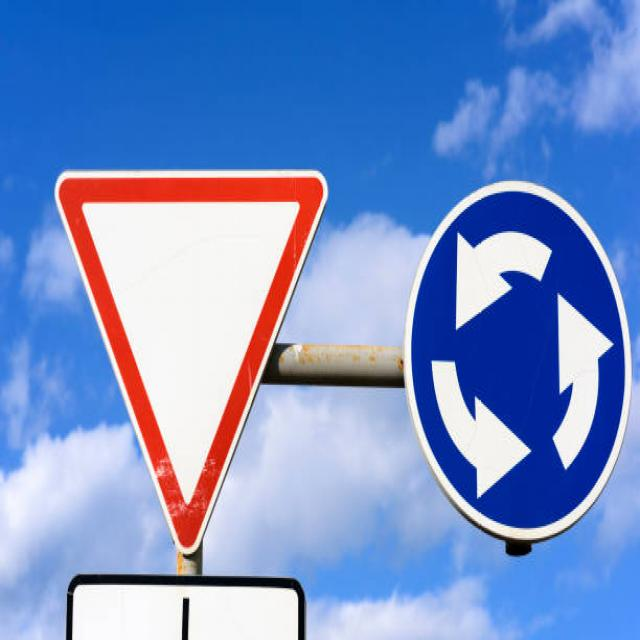give_way: (46, 150, 333, 560)
